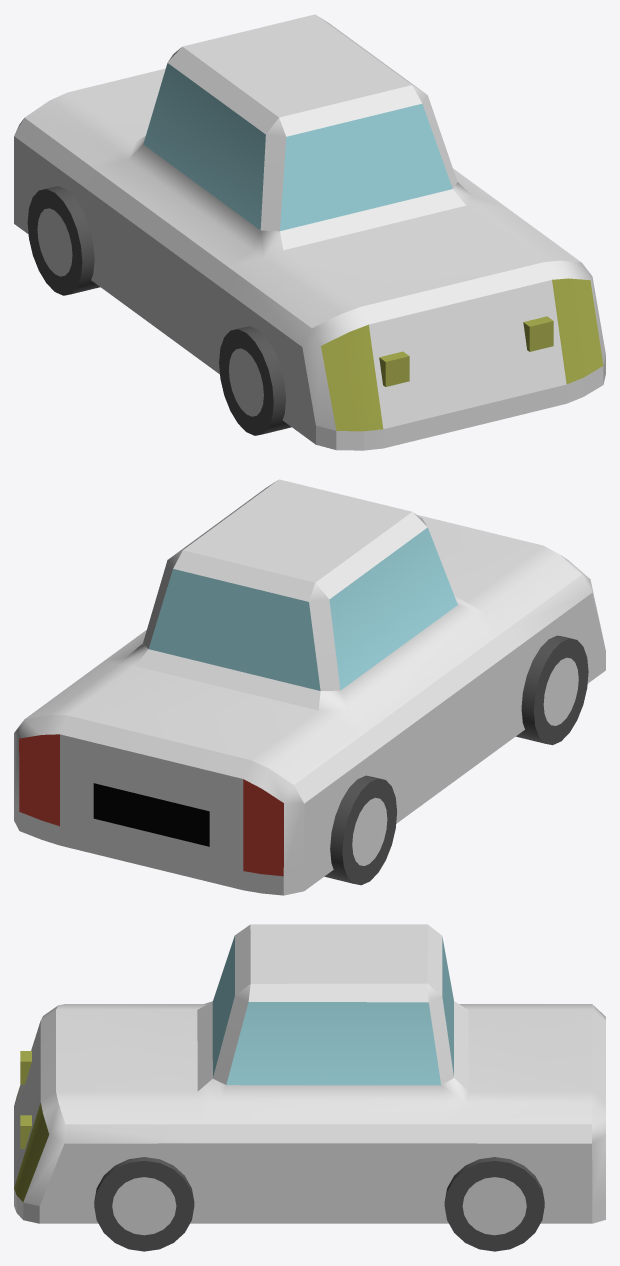
The model's file is Car_02.fbx.
3 views of the same model, one above another, from view 1: azimuth 30°, elevation 25°; view 2: azimuth 150°, elevation 25°; view 3: azimuth 270°, elevation 25° (orthographic). The views are drawn at different scales.
Parts seen in each view (by area): view 1: pCube120, polySurface20, polySurface22, pCube128, pCube127; view 2: pCube120, polySurface20, polySurface22; view 3: pCube120, polySurface19, polySurface21.
Part boxes in pixels (bbox=[...]): pCube120: bbox=[14, 14, 605, 450]; polySurface20: bbox=[219, 326, 291, 435]; polySurface22: bbox=[27, 186, 100, 295]; pCube128: bbox=[379, 351, 409, 386]; pCube127: bbox=[523, 316, 553, 351]; pCube120: bbox=[14, 479, 605, 895]; polySurface20: bbox=[516, 635, 588, 745]; polySurface22: bbox=[324, 775, 396, 885]; pCube120: bbox=[14, 924, 605, 1223]; polySurface19: bbox=[94, 1157, 194, 1251]; polySurface21: bbox=[444, 1157, 544, 1251].
Bounding box in the file's own units: 38.85 × 29.84 × 69.96.
